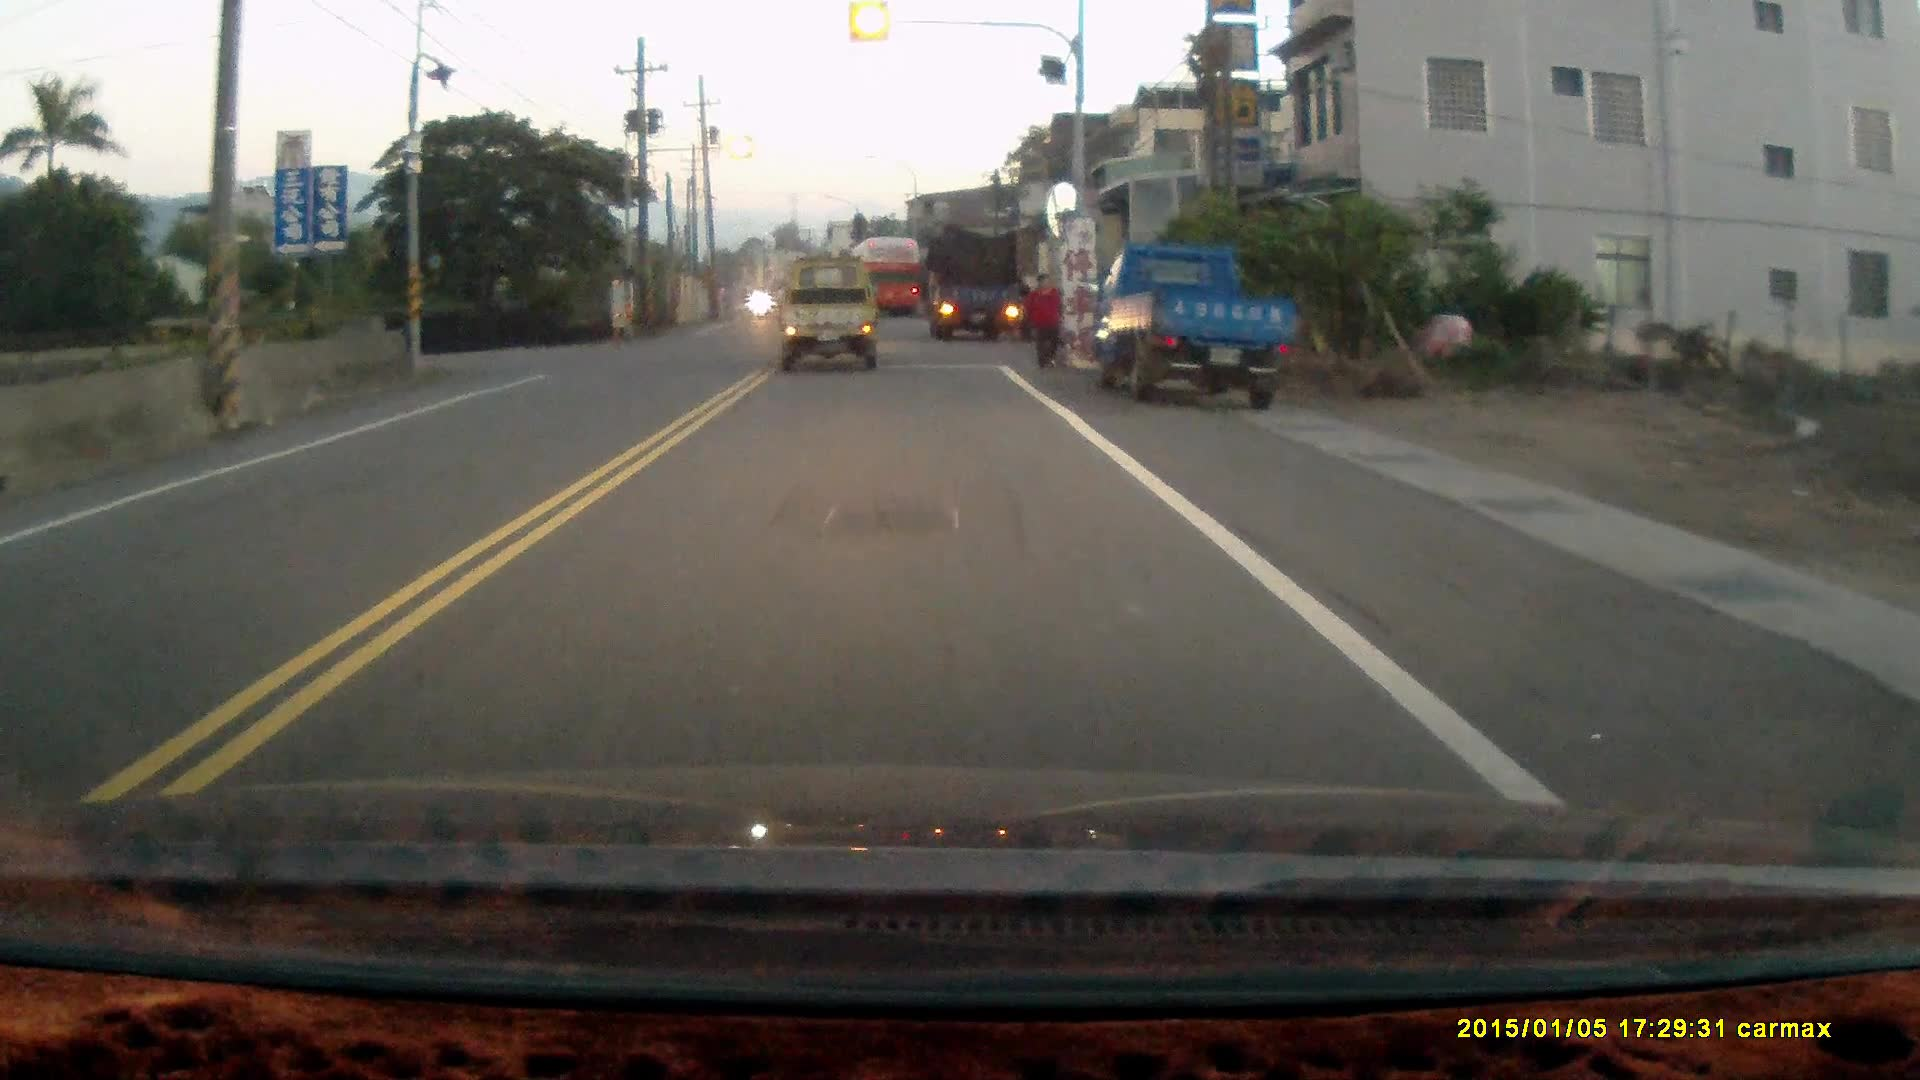pedestrian: (1020, 271, 1064, 379)
rider: (741, 278, 770, 329)
vehicle: (1084, 245, 1304, 412), (776, 263, 879, 375), (929, 237, 1026, 347), (851, 234, 927, 320)
